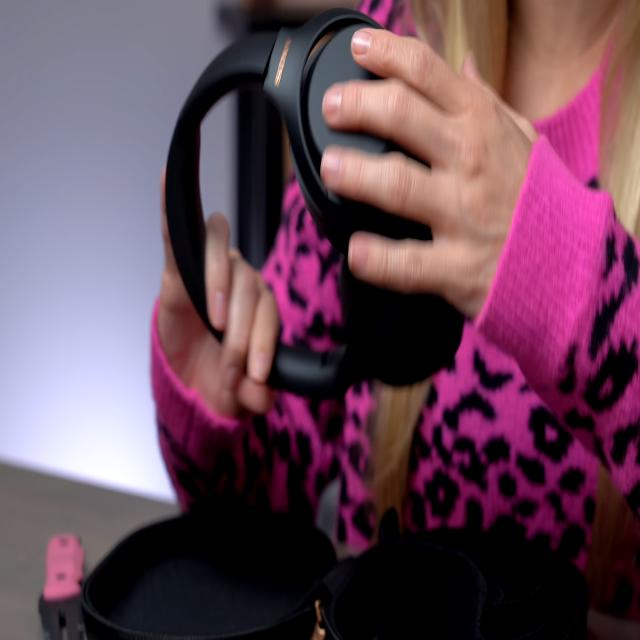Headphone: (165, 2, 466, 400)
